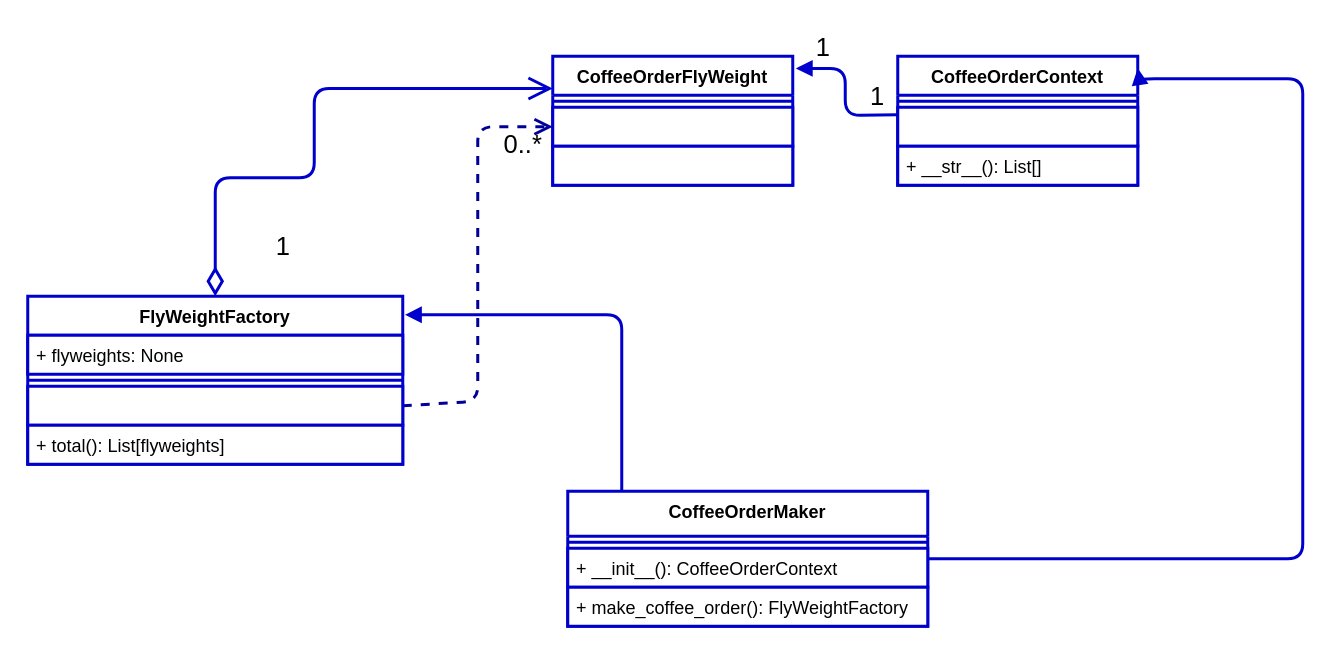
Image size: 1341x656. Some labels were removed from this diagram. The shapes that lost their labels are listed below. From the top down, each one's centre as x and y in pixels, then its label:
At point 672,126: "+ __init__(): List[]".
At point 1017,126: "+ __init__()".
At point 672,165: "+ __str__():List[]".
At point 215,405: "+ get_flyweight(): CoffeeOrderFlyWeight".
